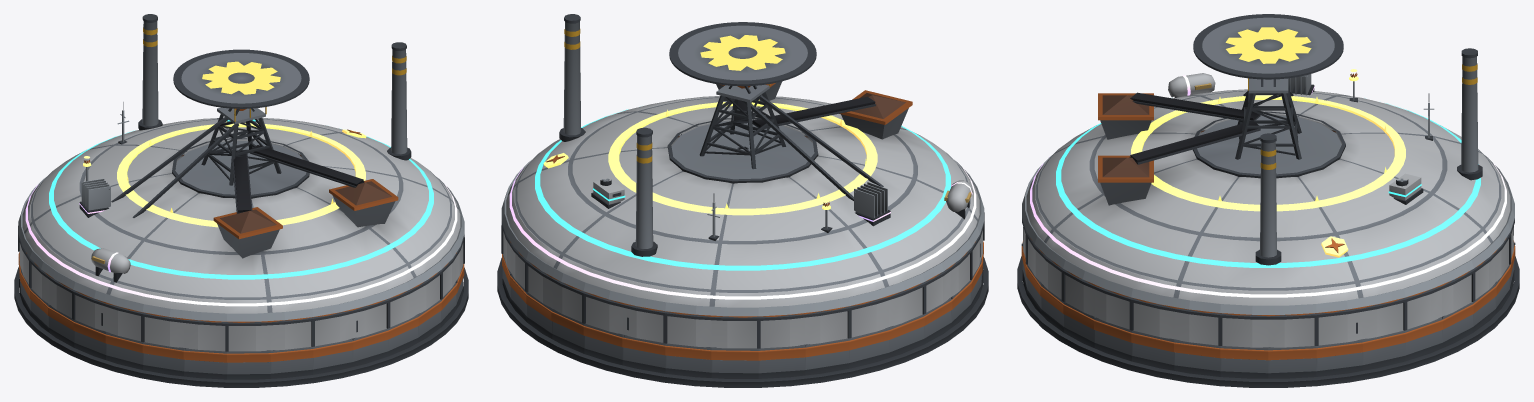
The model's file is mine_l_far.glb.
3 renders of one model, left to right at view 1: azimuth 30°, elevation 25°; view 2: azimuth 150°, elevation 25°; view 3: azimuth 270°, elevation 25°, orthographic. The views are drawn at different scales.
Parts seen in each view (by area): view 1: Roof, Base, L2, L4, L5, L3; view 2: Roof, Base, L2, L5, L4, L3; view 3: Roof, Base, L2, L5, L3, L4.
Part boxes in pixels (x1=…): Roof: x1=18, y1=14, x2=464, y2=351; Base: x1=14, y1=168, x2=468, y2=387; L2: x1=18, y1=102, x2=464, y2=321; L4: x1=25, y1=178, x2=457, y2=306; L5: x1=83, y1=121, x2=366, y2=227; L3: x1=49, y1=119, x2=433, y2=279; Roof: x1=501, y1=14, x2=984, y2=348; Base: x1=497, y1=150, x2=988, y2=387; L2: x1=501, y1=160, x2=984, y2=316; L5: x1=543, y1=99, x2=877, y2=232; L4: x1=509, y1=167, x2=976, y2=299; L3: x1=535, y1=109, x2=950, y2=270; Roof: x1=1022, y1=14, x2=1514, y2=347; Base: x1=1017, y1=240, x2=1519, y2=387; L2: x1=1022, y1=93, x2=1514, y2=314; L5: x1=1131, y1=69, x2=1405, y2=257; L3: x1=1056, y1=103, x2=1480, y2=267; L4: x1=1030, y1=73, x2=1506, y2=297.
Size of the model in its own units: 18.96 by 9.85 by 18.96.
